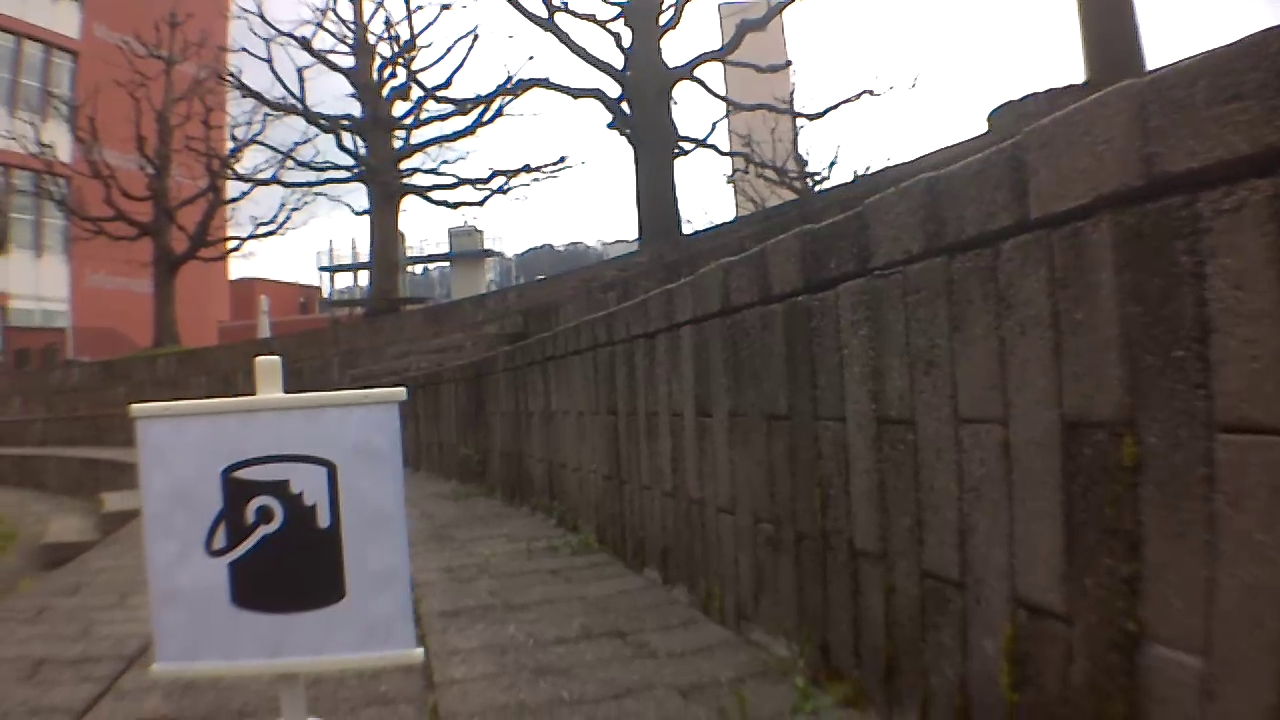bucket: (201, 451, 348, 622)
